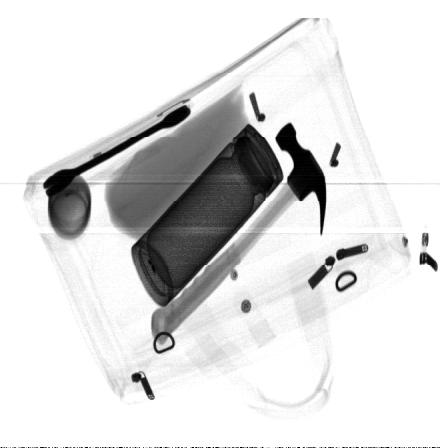Hammer: (151, 122, 326, 347)
Wrench: (41, 105, 192, 198)
